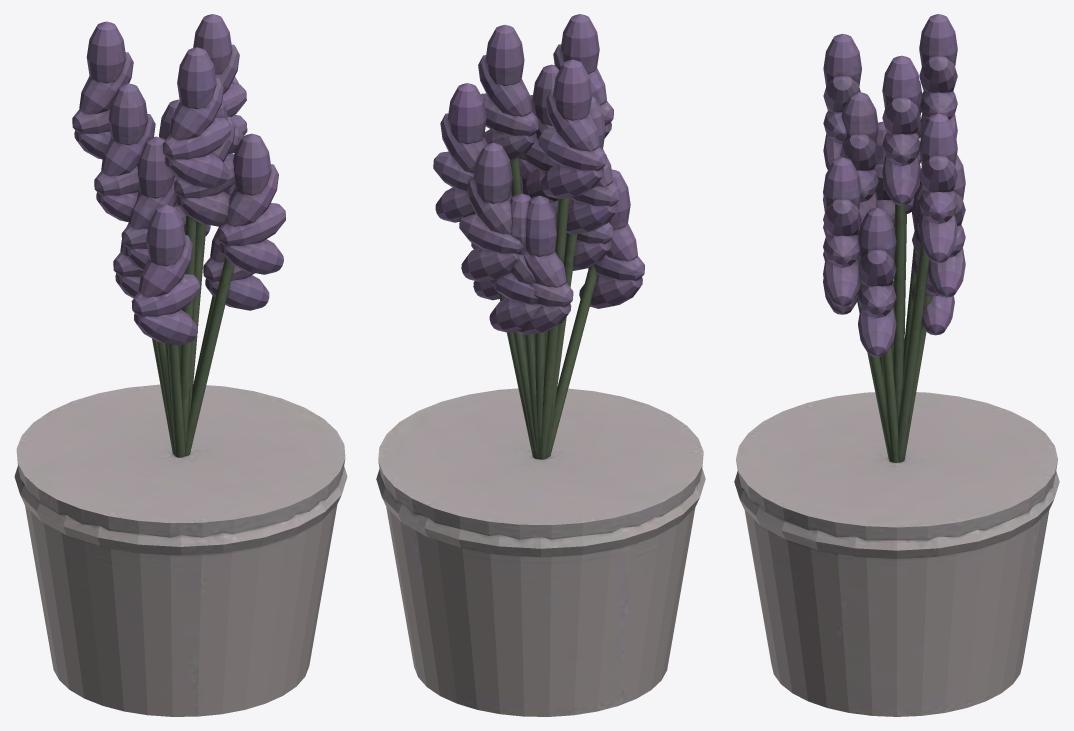
File: dressing-lavender.glb
3 views of the same model, side by side, from view 1: azimuth 30°, elevation 25°; view 2: azimuth 150°, elevation 25°; view 3: azimuth 270°, elevation 25° (orthographic). The views are drawn at different scales.
Parts seen in each view (by area): view 1: case-baked; view 2: case-baked; view 3: case-baked.
Part boxes in pixels (x1=…): case-baked: x1=14, y1=14, x2=347, y2=716; case-baked: x1=376, y1=14, x2=705, y2=716; case-baked: x1=734, y1=14, x2=1059, y2=716.
Size of the model in its own units: 0.1515 by 0.3207 by 0.1515.
Materials: 1 (1 with a texture image).
